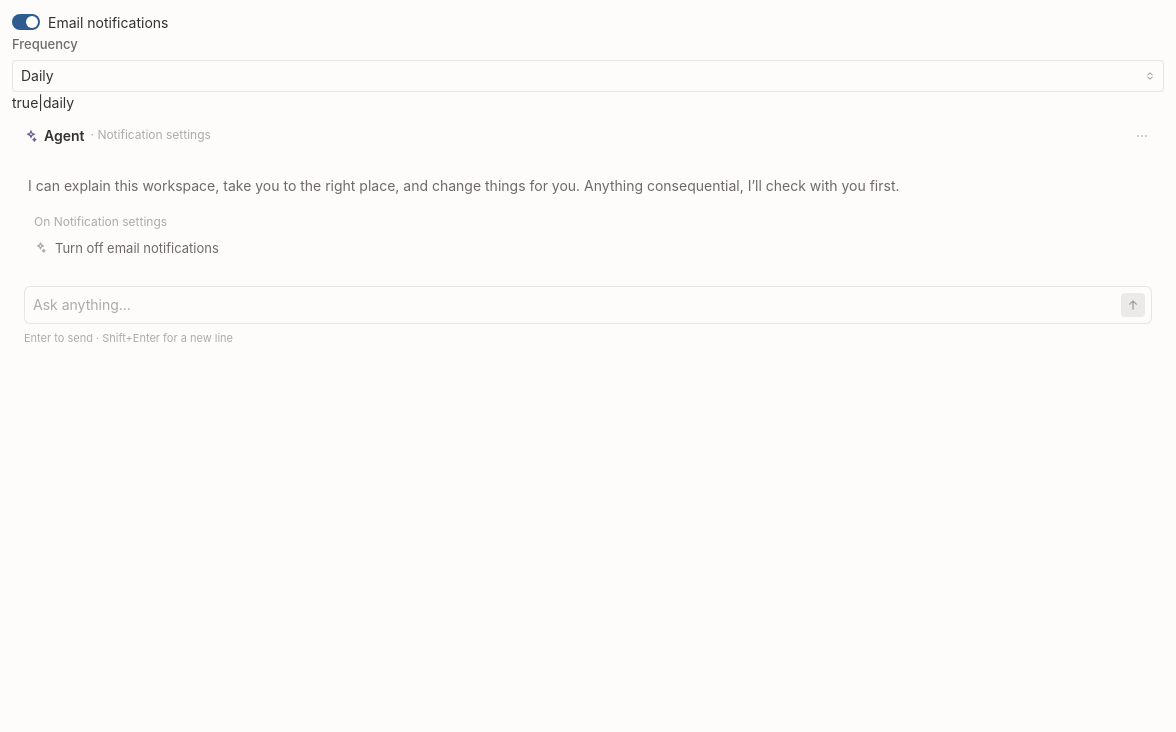
Test: agent-operated UI › changes nothing when the user cancels the confirmation
The width and height of the screenshot is (1176, 732).
Type "turn off email" into the text box named "Message the agent" at point(574, 305), box [33, 293, 1115, 317]
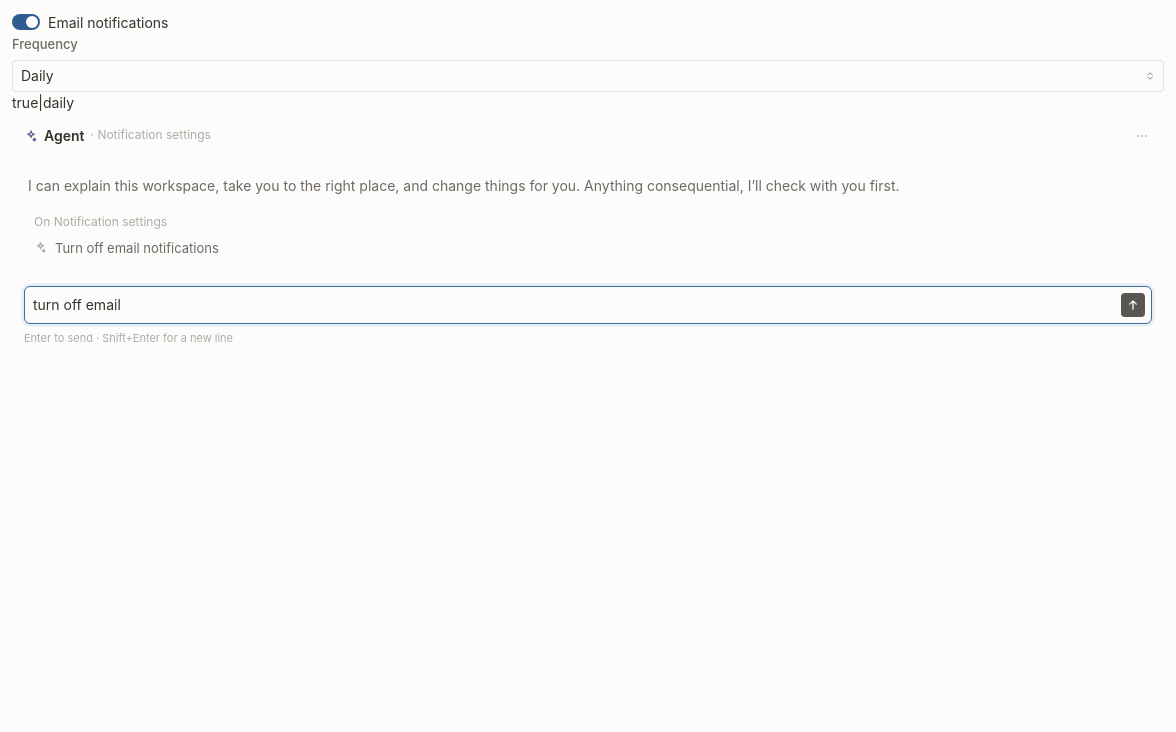
Click the button named "Send" at point(1133, 305), box [1121, 293, 1145, 317]
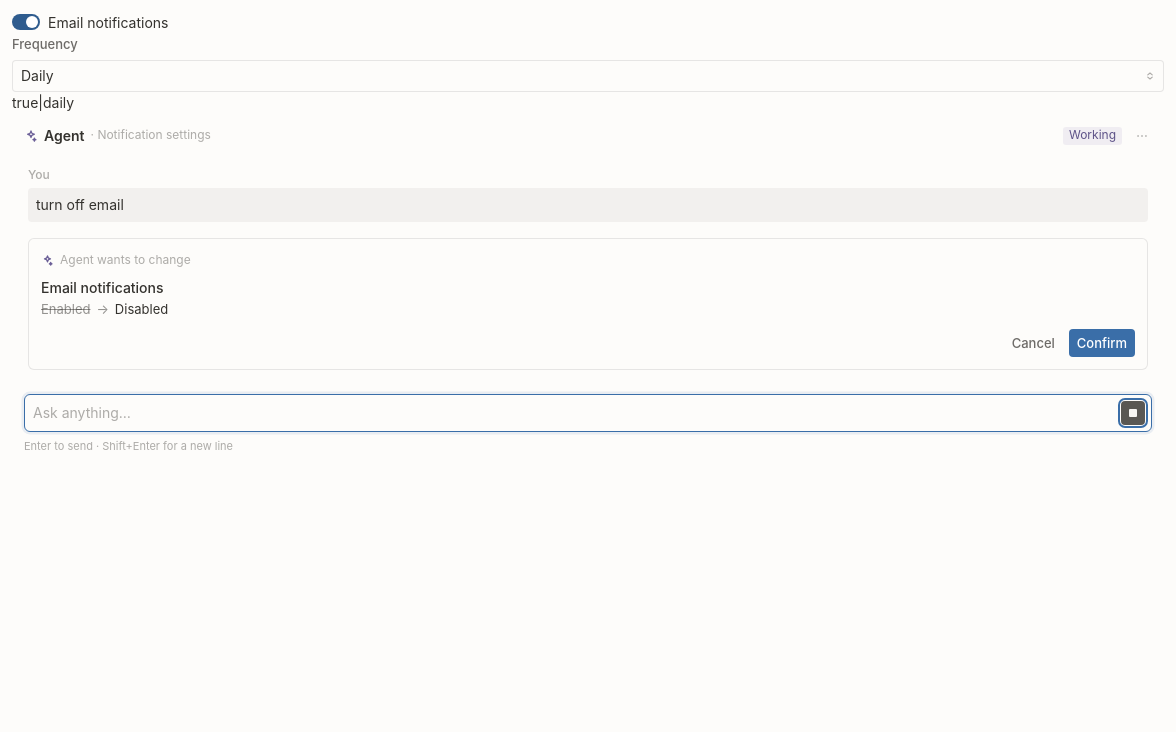
Click the button "Cancel" at point(1033, 343), box [1004, 329, 1063, 357]
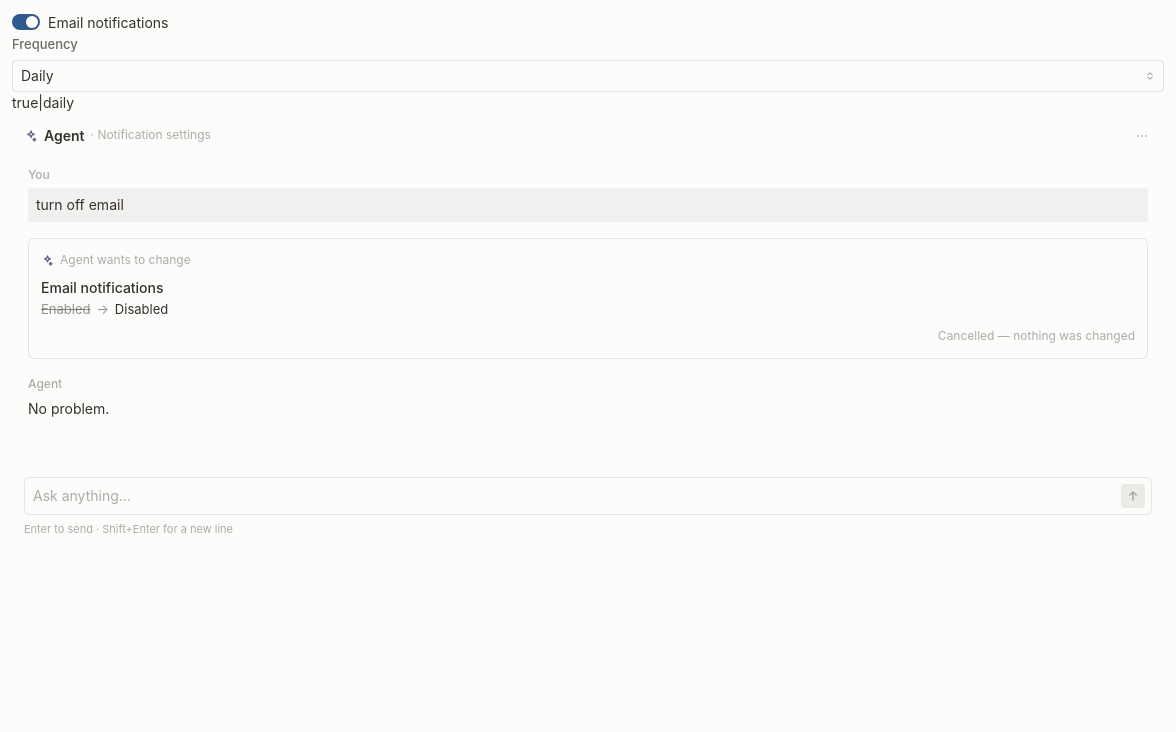
Expected: the text with test id "probe" reads "true|daily", [12, 94, 74, 111]
Now the text "No problem." is shown, box [28, 400, 109, 417]
Now the text "Cancelled — nothing was changed" is shown, box [938, 328, 1135, 343]
